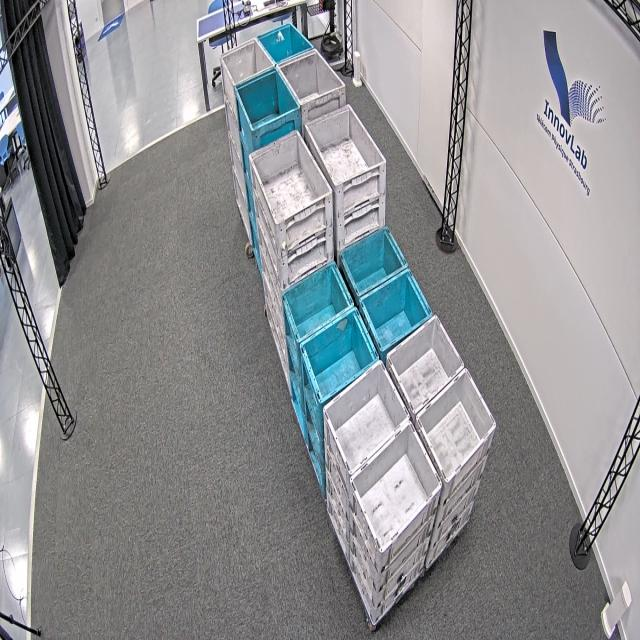Roll3G: (248, 129, 333, 226), (303, 104, 387, 188)
Roll4G: (276, 46, 347, 106), (219, 37, 277, 88)
Roll8G: (323, 360, 442, 554), (387, 314, 497, 486)
RollB4: (235, 66, 301, 132), (256, 20, 315, 64)
RollB8: (281, 260, 380, 405), (339, 224, 434, 354)
